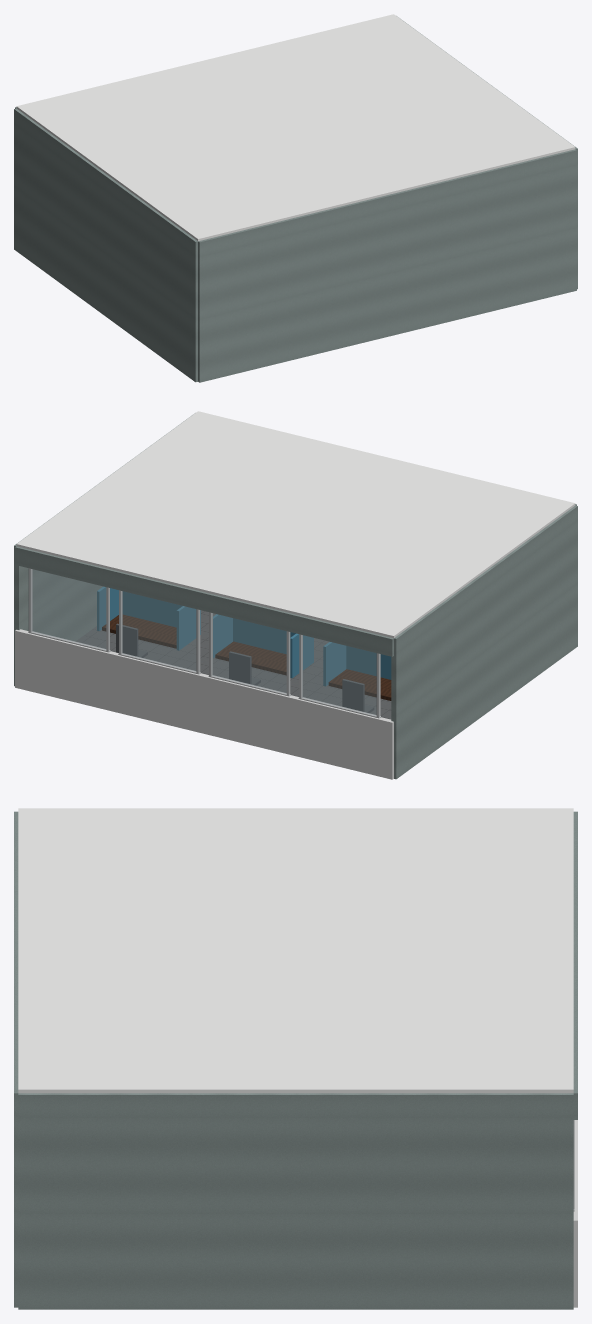
Rendered from office.glb.
The picture shows the model from 3 angles, top to bottom: view 1: azimuth 30°, elevation 25°; view 2: azimuth 150°, elevation 25°; view 3: azimuth 270°, elevation 25°; orthographic projection. The views are drawn at different scales.
Visible parts, largest first — view 1: Cutaway_Wall_White, Ceiling_Ceiling_White; view 2: Ceiling_Ceiling_White, Cutaway_Wall_White, Static_Wall_LowerGray, Cutaway_Window_Glass, Static_Wall_White, Static_Cubicle_Blue, Static_Floor_Gray, Cutaway_Metal_Gray, Static_Wood_Warm, Static_Display_Dark; view 3: Ceiling_Ceiling_White, Cutaway_Wall_White, Static_Wall_White, Static_Wall_LowerGray.
Part boxes in pixels (x1,y1,x2,y2): Cutaway_Wall_White: [14, 16, 577, 382]; Ceiling_Ceiling_White: [16, 14, 575, 241]; Ceiling_Ceiling_White: [16, 411, 575, 638]; Cutaway_Wall_White: [14, 413, 577, 779]; Static_Wall_LowerGray: [15, 629, 393, 779]; Cutaway_Window_Glass: [32, 569, 376, 715]; Static_Wall_White: [15, 546, 393, 656]; Static_Cubicle_Blue: [97, 586, 391, 686]; Static_Floor_Gray: [76, 610, 391, 719]; Cutaway_Metal_Gray: [28, 568, 380, 718]; Static_Wood_Warm: [102, 614, 391, 700]; Static_Display_Dark: [116, 623, 374, 713]; Ceiling_Ceiling_White: [18, 808, 573, 1093]; Cutaway_Wall_White: [14, 811, 573, 1309]; Static_Wall_White: [573, 811, 577, 1119]; Static_Wall_LowerGray: [573, 1120, 577, 1307].
Bounding box in the file's own units: 9.12 × 3.25 × 7.62.
Materials: 10 (3 with a texture image).
